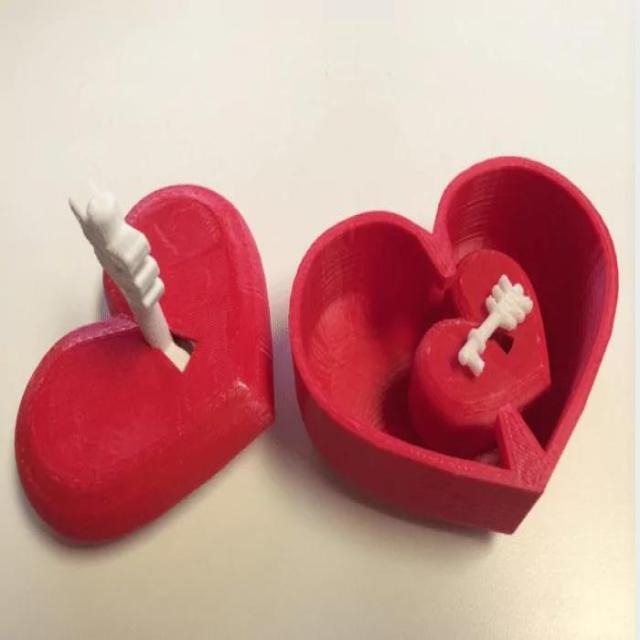Without deffect: (22, 104, 626, 584)
